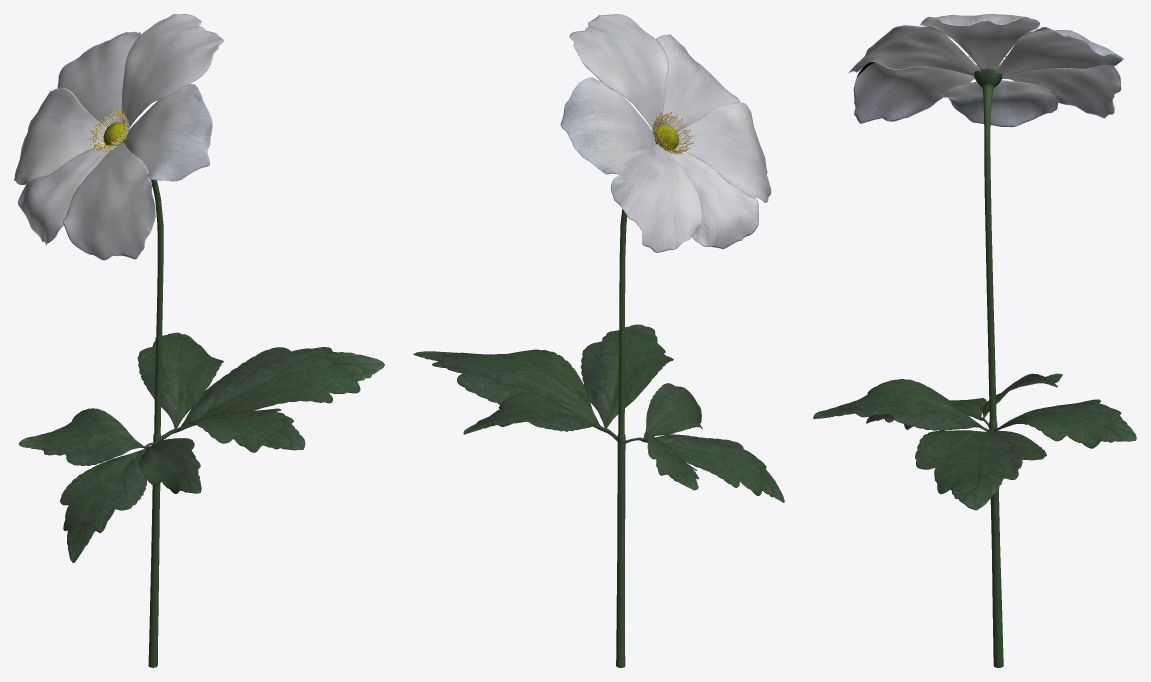
The model's file is anemonewhitecp.glb.
3 views of the same model, side by side, from view 1: azimuth 30°, elevation 25°; view 2: azimuth 150°, elevation 25°; view 3: azimuth 270°, elevation 25° (orthographic). The views are drawn at different scales.
Parts seen in each view (by area): view 1: 12973_anemone_flower_v1_l2; view 2: 12973_anemone_flower_v1_l2; view 3: 12973_anemone_flower_v1_l2.
Part boxes in pixels (x1=…): 12973_anemone_flower_v1_l2: x1=14, y1=14, x2=384, y2=667; 12973_anemone_flower_v1_l2: x1=413, y1=14, x2=784, y2=667; 12973_anemone_flower_v1_l2: x1=813, y1=14, x2=1136, y2=667.
Bounding box in the file's own units: 2.56 × 4.5 × 1.97.
Materials: 1 (1 with a texture image).
